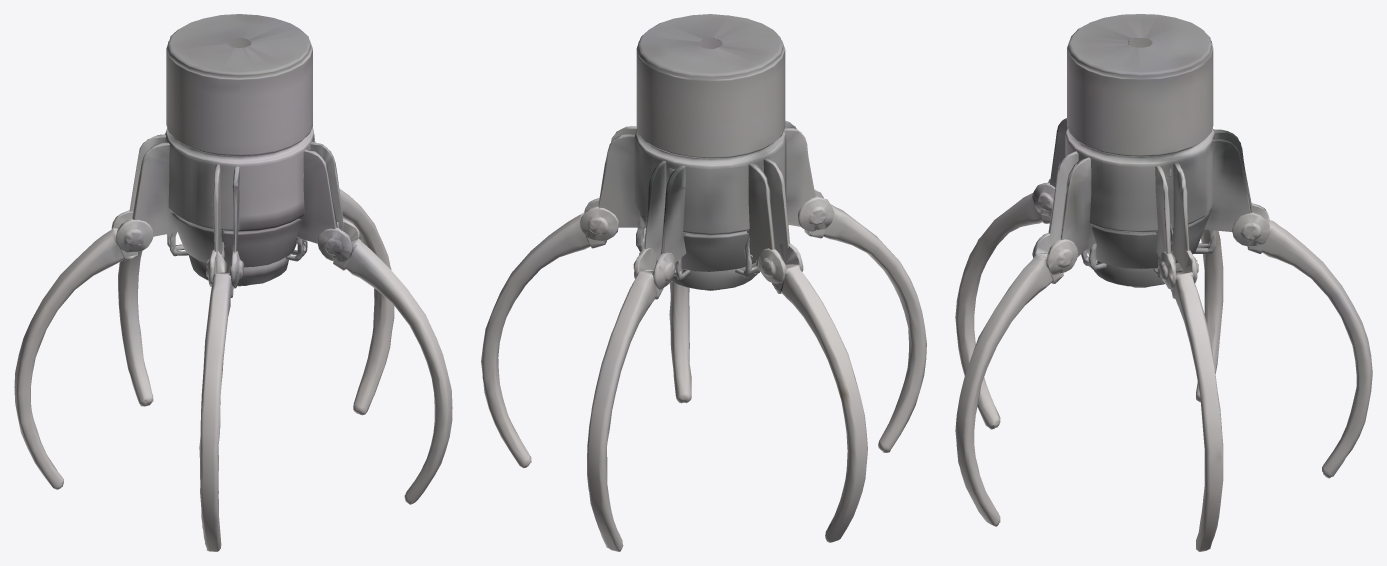
File: claw.glb
The picture shows the model from 3 angles, left to right: view 1: azimuth 30°, elevation 25°; view 2: azimuth 150°, elevation 25°; view 3: azimuth 270°, elevation 25°; orthographic projection.
Visible parts, largest first — view 1: claw.centre, claw4, claw2, claw1, claw5, claw3; view 2: claw.centre, claw2, claw3, claw5, claw1, claw4; view 3: claw.centre, claw4, claw3, claw5, claw1, claw2.
Boxes of the visible parts, left/top/right/bottom form: claw.centre: left=165, top=14, right=313, bottom=286; claw4: left=296, top=141, right=452, bottom=504; claw2: left=14, top=134, right=177, bottom=489; claw1: left=199, top=164, right=244, bottom=551; claw5: left=312, top=126, right=394, bottom=415; claw3: left=118, top=250, right=153, bottom=406; claw.centre: left=634, top=14, right=786, bottom=290; claw2: left=748, top=157, right=867, bottom=542; claw3: left=587, top=160, right=686, bottom=551; claw5: left=481, top=126, right=644, bottom=468; claw1: left=784, top=120, right=926, bottom=452; claw4: left=669, top=281, right=691, bottom=403; claw.centre: left=1065, top=14, right=1215, bottom=287; claw4: left=955, top=151, right=1095, bottom=526; claw3: left=1204, top=129, right=1372, bottom=478; claw5: left=1155, top=162, right=1223, bottom=551; claw1: left=955, top=118, right=1067, bottom=429; claw2: left=1196, top=229, right=1223, bottom=402.
Bounding box in the file's own units: 0.1479 × 0.1611 × 0.1406.
1 material, 1 textured.
